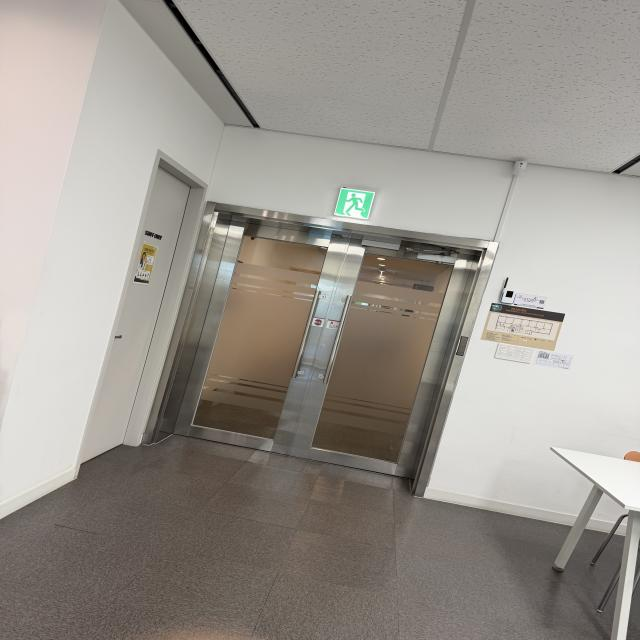rear_door: (154, 208, 485, 482)
